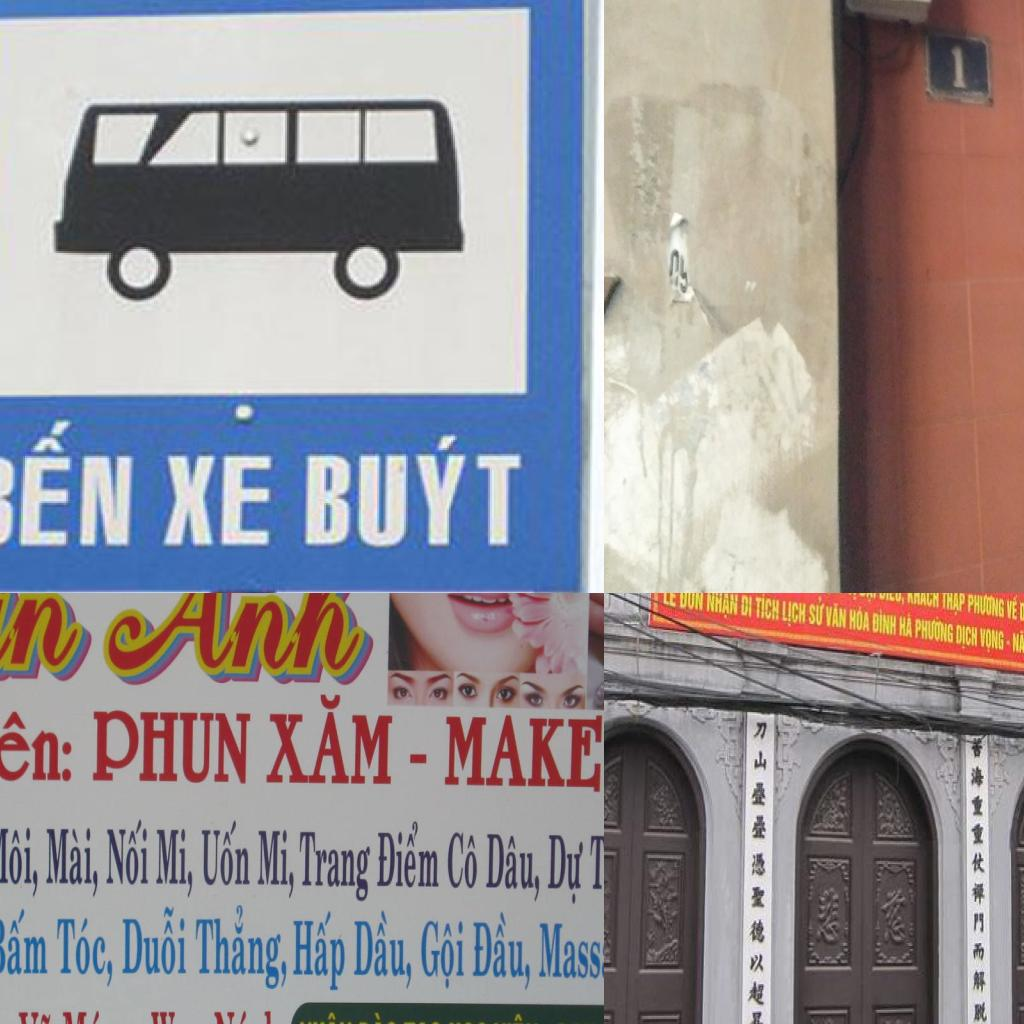text: (93, 593, 380, 684), (306, 432, 522, 552), (0, 418, 139, 554), (91, 708, 253, 787), (443, 715, 604, 794), (265, 694, 396, 786), (162, 456, 275, 548), (0, 593, 100, 683), (192, 902, 290, 988), (0, 701, 75, 808), (300, 830, 370, 906), (351, 908, 415, 991), (470, 908, 532, 993), (538, 920, 604, 997), (120, 905, 187, 977), (376, 814, 440, 888), (294, 908, 346, 996), (56, 914, 116, 988), (484, 832, 542, 904), (45, 827, 100, 901), (419, 914, 466, 996), (0, 904, 48, 976), (202, 821, 252, 886), (105, 819, 150, 888), (155, 828, 194, 903), (0, 825, 40, 898), (547, 832, 585, 908), (257, 828, 295, 897), (447, 830, 479, 890), (914, 614, 954, 646), (589, 831, 604, 907), (967, 593, 1006, 622), (948, 42, 970, 93), (213, 1009, 282, 1024), (705, 593, 739, 622), (754, 593, 781, 624), (955, 622, 981, 654), (980, 624, 1006, 656), (150, 1010, 206, 1024), (872, 606, 898, 636), (782, 600, 808, 628), (848, 602, 870, 634), (826, 601, 848, 630), (808, 595, 826, 630), (491, 1011, 539, 1024), (298, 1013, 354, 1024), (905, 593, 941, 610), (942, 593, 967, 617), (678, 593, 705, 615), (357, 1011, 401, 1024), (898, 610, 914, 641), (19, 1011, 54, 1024), (878, 593, 905, 607), (1006, 593, 1019, 620), (740, 593, 753, 620), (662, 593, 680, 612), (1012, 630, 1024, 656), (859, 593, 877, 604), (845, 593, 858, 604), (1020, 598, 1024, 628)
